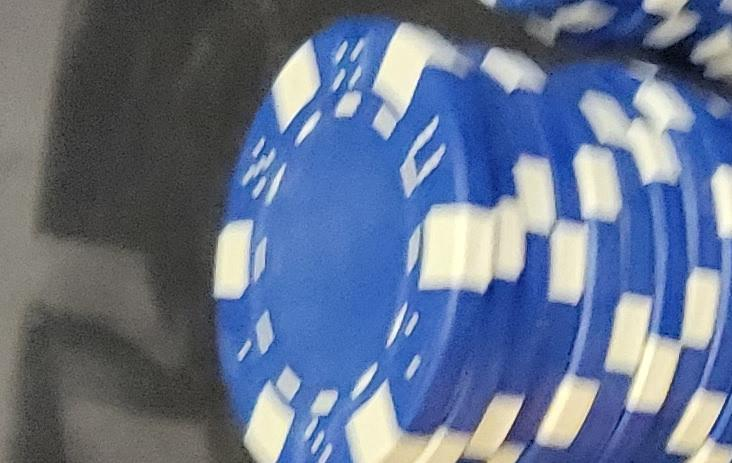Chip: (1, 252, 436, 463)
